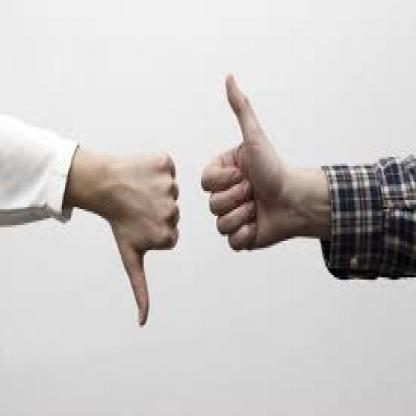thumb_down: (112, 145, 180, 330)
thumb_up: (200, 72, 297, 252)
